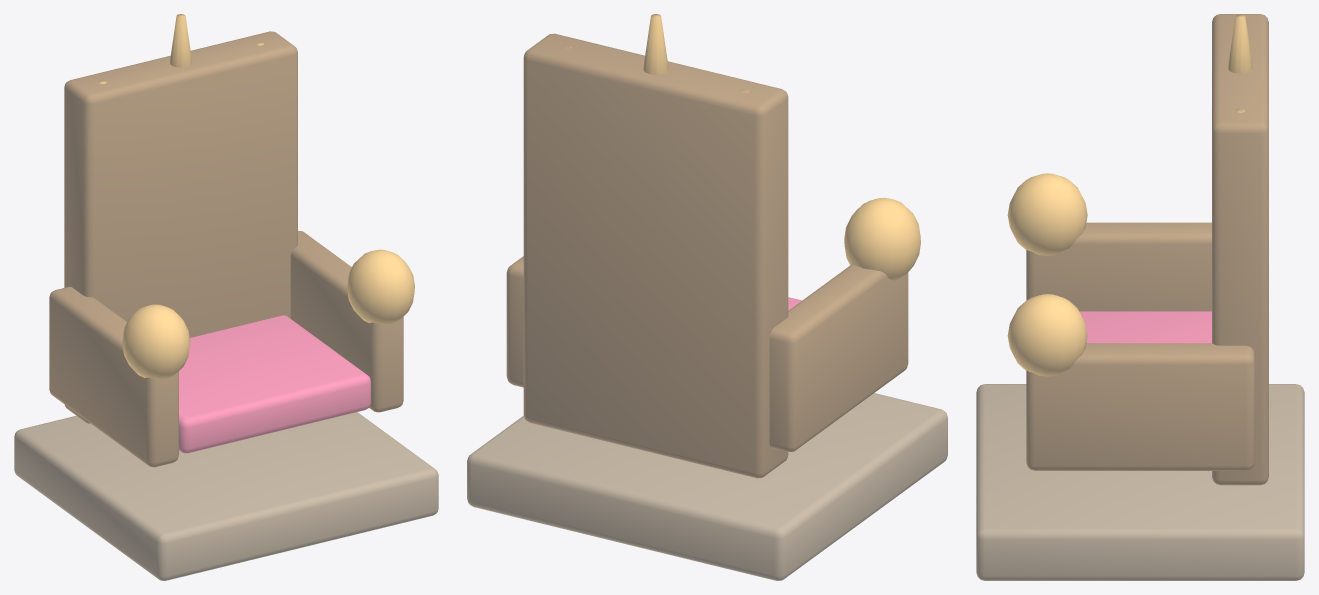
The model's file is castle_detail_throne_purified.glb.
3 views of the same model, side by side, from view 1: azimuth 30°, elevation 25°; view 2: azimuth 150°, elevation 25°; view 3: azimuth 270°, elevation 25° (orthographic). The views are drawn at different scales.
Visible parts, largest first — view 1: castle_detail_throne_purified_surface; view 2: castle_detail_throne_purified_surface; view 3: castle_detail_throne_purified_surface.
Part boxes in pixels (x1,y1,x2,y2): castle_detail_throne_purified_surface: [14, 14, 438, 580]; castle_detail_throne_purified_surface: [467, 14, 947, 580]; castle_detail_throne_purified_surface: [976, 14, 1304, 580].
Size of the model in its own units: 2.52 by 3.8 by 2.3.
